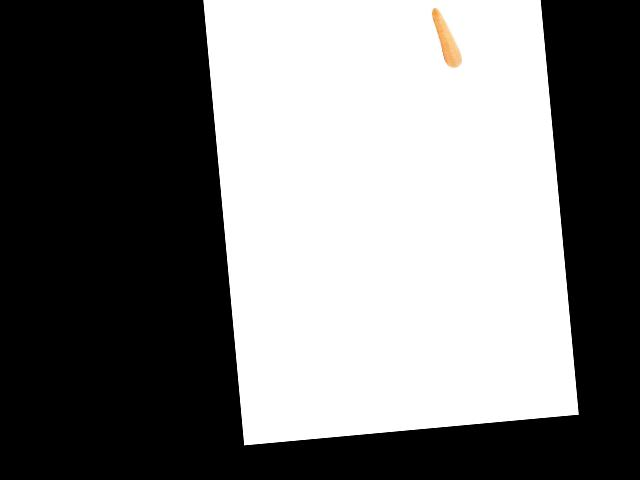carrot: (426, 2, 465, 84)
